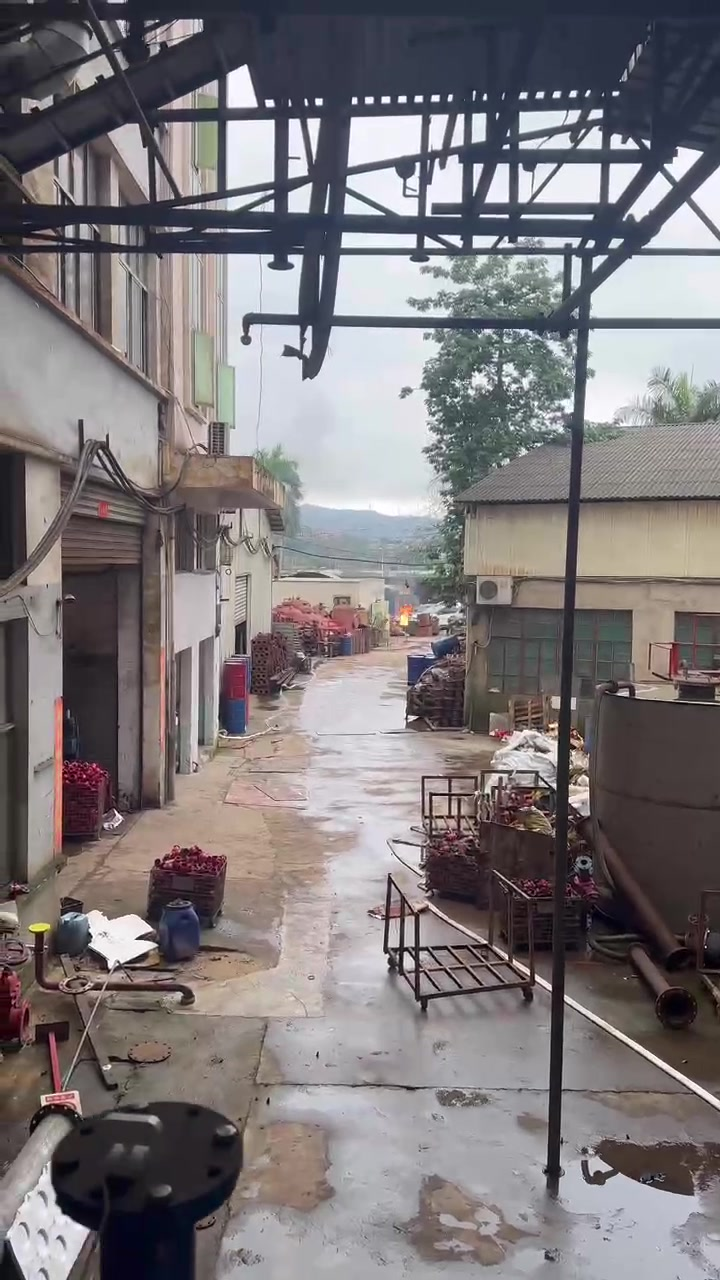fire: (400, 604, 410, 624)
